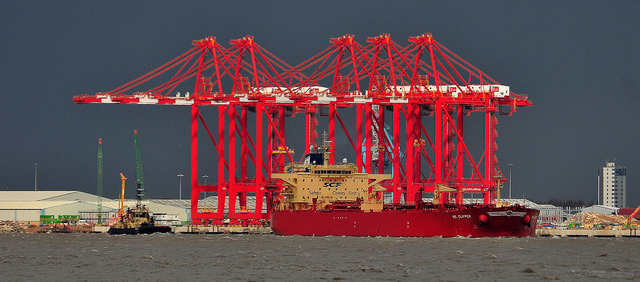tanker: (270, 137, 545, 236)
tug_boat: (105, 172, 171, 236)
